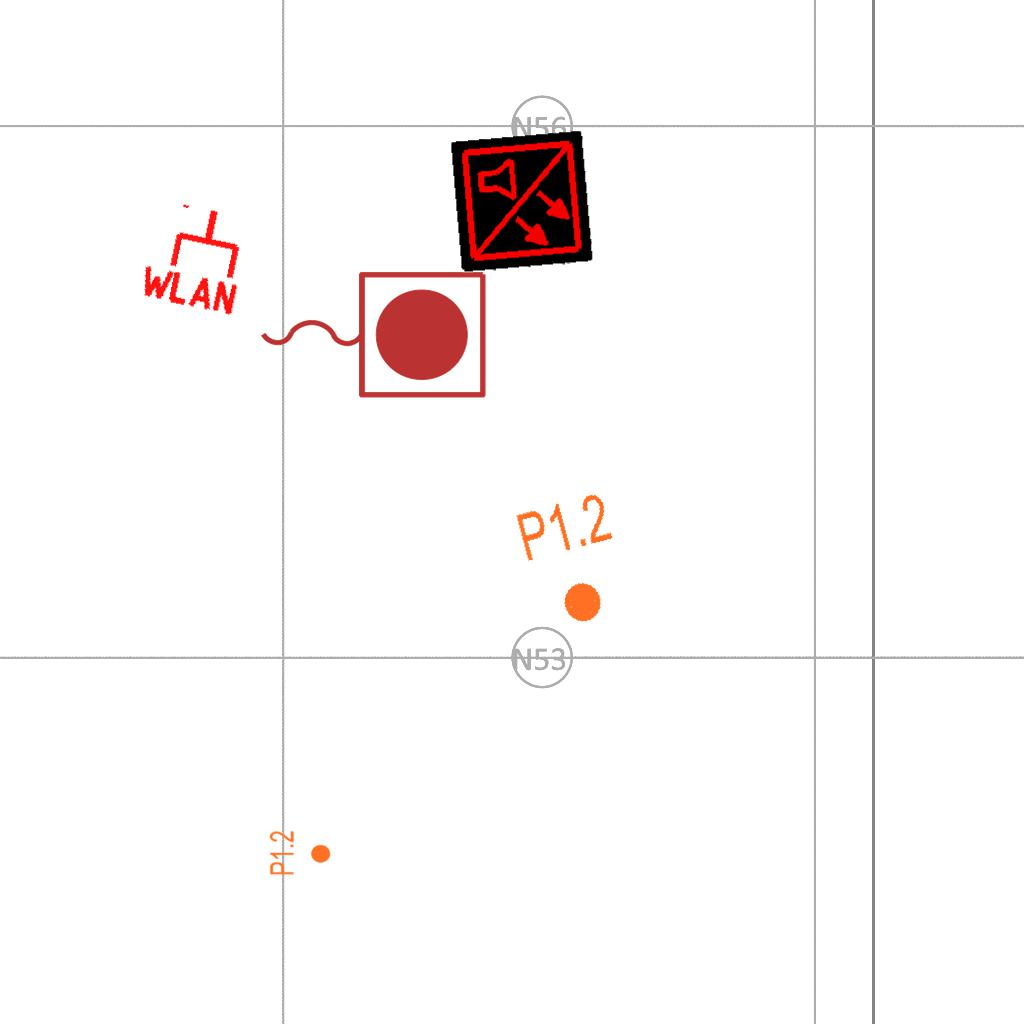Downlight_LED_Einbauleuchten_Flur: (512, 488, 635, 636), (268, 830, 332, 876)
OKW_Multisensormelder_(Kombination_optischer_Rauch-Kahlenmonoxid_Waerme-Melder): (450, 130, 594, 274)
WLAN: (133, 193, 258, 319)
Zugtaster: (250, 261, 494, 405)
